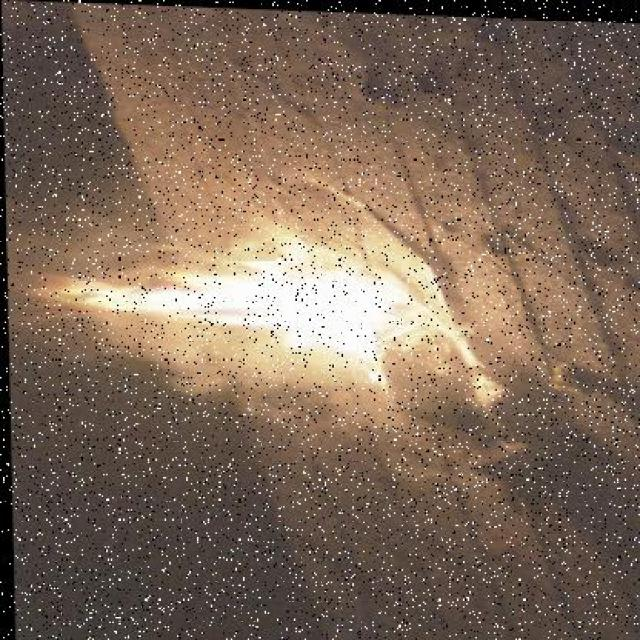fire: (20, 201, 465, 435)
